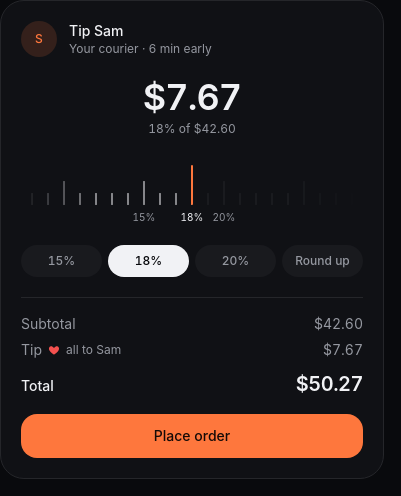
it: TipSelector › rounds the total up to a whole amount
The width and height of the screenshot is (401, 496).
Click the button "Round up": (322, 261) [282,245,363,277]
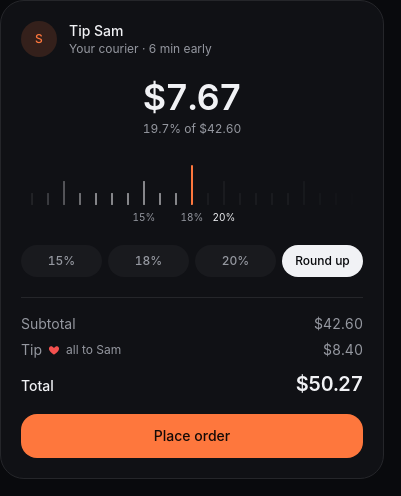
Click the button "Place order": (192, 436) [21,414,363,458]
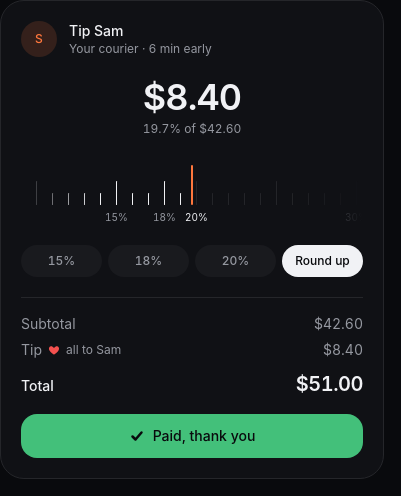
Expected: the button "Paid, thank you" is shown, [21,414,363,458]
